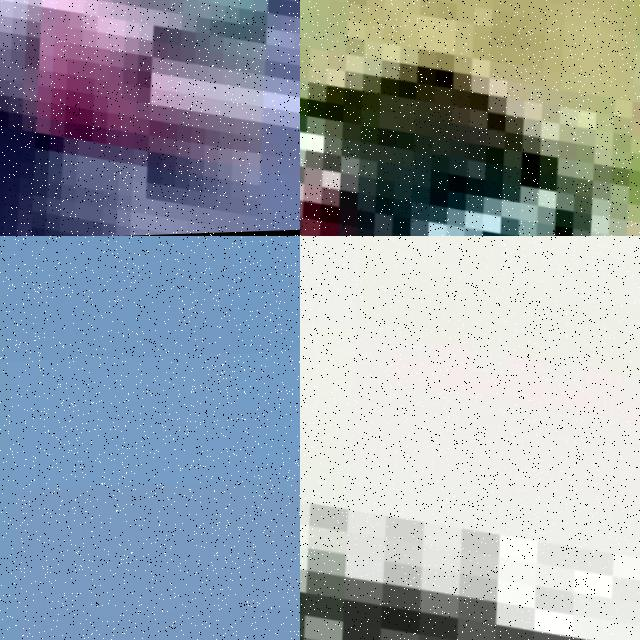drone: (300, 236, 640, 640), (300, 0, 640, 236), (0, 0, 300, 236)
